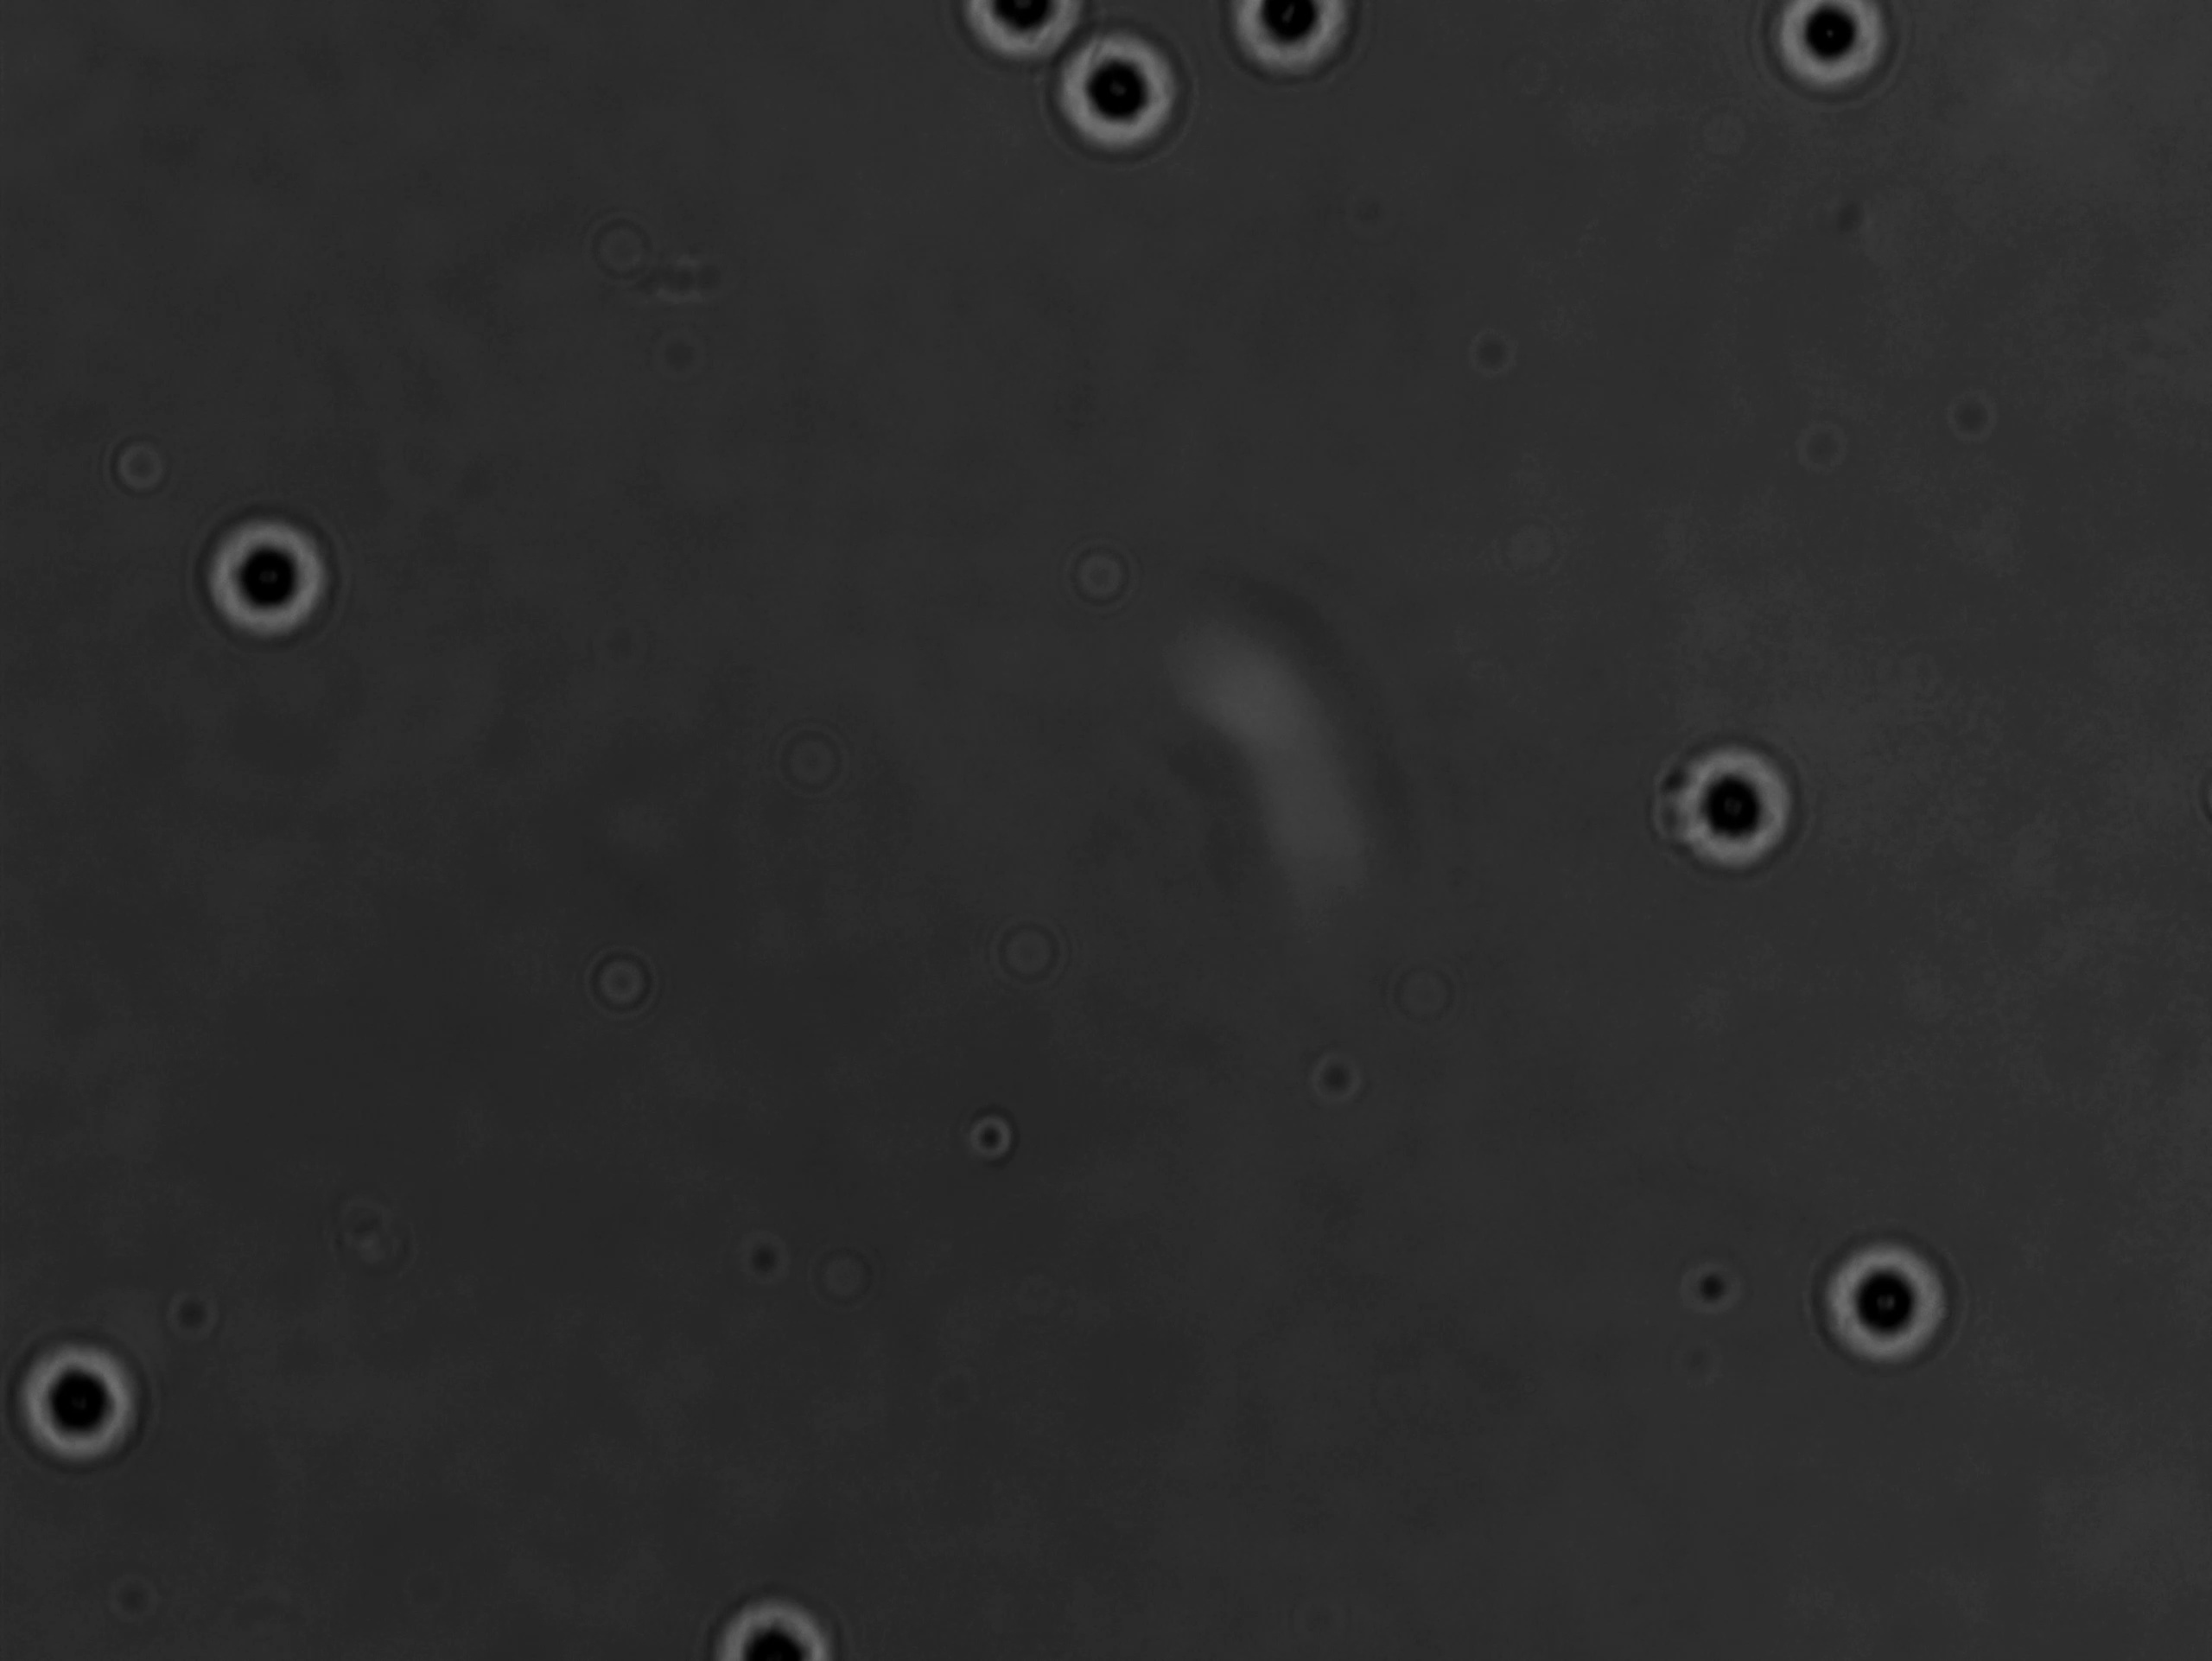depth:-20: (1781, 1207, 1964, 1382), (1643, 715, 1823, 888), (1038, 0, 1204, 178), (190, 478, 356, 653)
